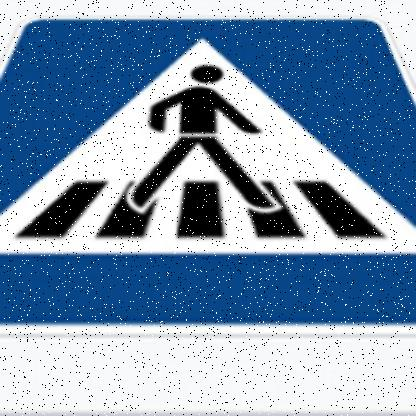Pedestrian Crossing: (1, 17, 416, 341)
